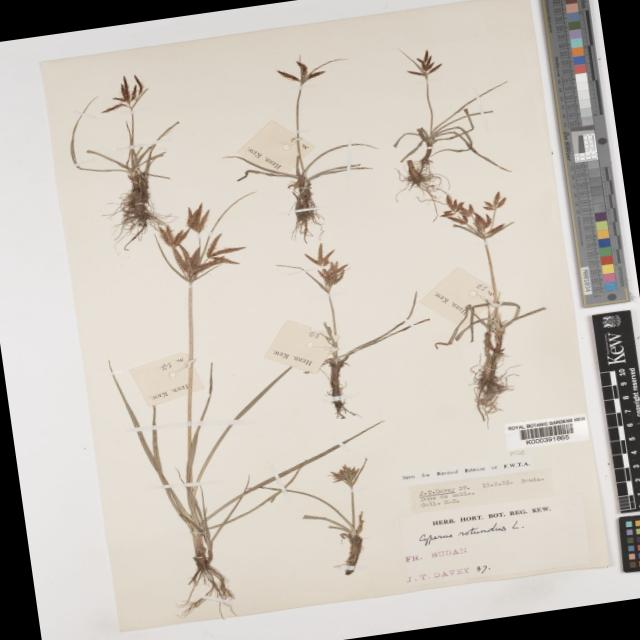cyperus: (149, 200, 246, 291), (431, 182, 520, 248), (288, 240, 354, 295), (96, 68, 158, 119), (266, 51, 334, 91), (398, 42, 448, 84)
